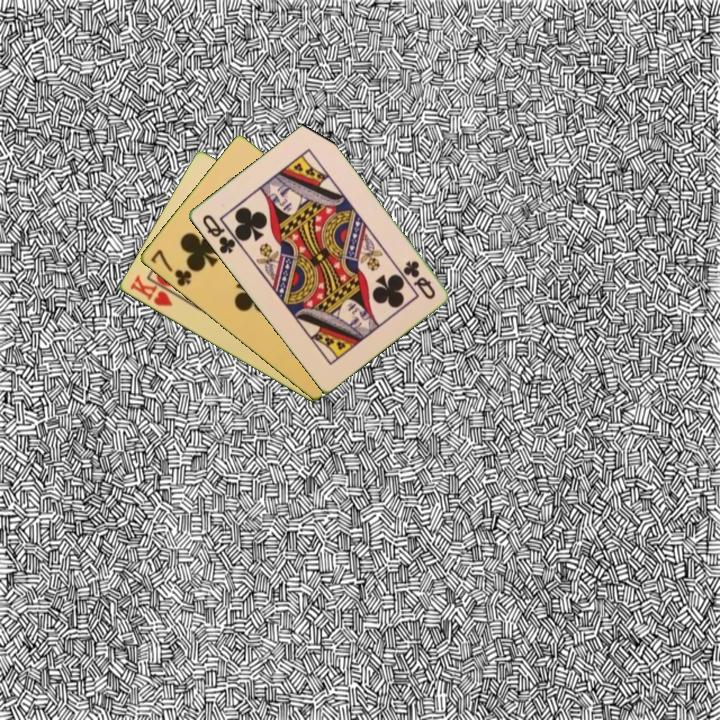7c: (147, 246, 195, 290)
Kh: (126, 272, 183, 309)
Qc: (198, 211, 238, 257), (399, 257, 438, 302)
